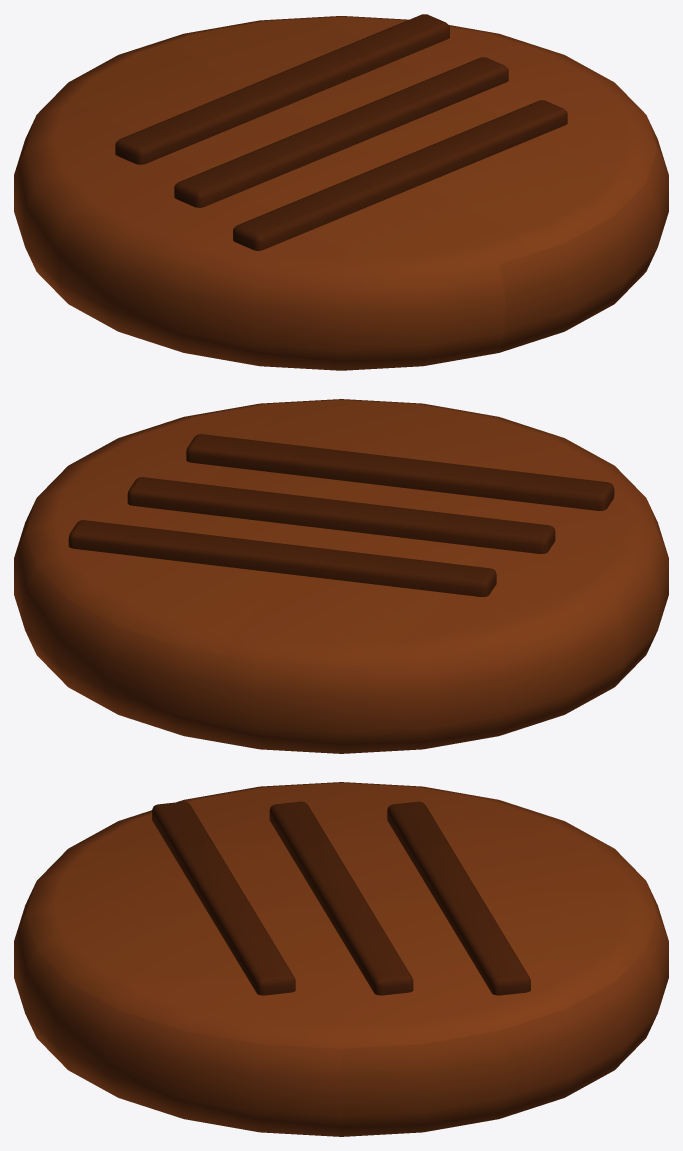
Rendered from patty.glb.
The picture shows the model from 3 angles, top to bottom: view 1: azimuth 30°, elevation 25°; view 2: azimuth 150°, elevation 25°; view 3: azimuth 270°, elevation 25°; orthographic projection.
Visible parts, largest first — view 1: PattyCookedBody, GrillChar_0.0, GrillChar_0.07, GrillChar_-0.07; view 2: PattyCookedBody, GrillChar_-0.07, GrillChar_0.0, GrillChar_0.07; view 3: PattyCookedBody, GrillChar_0.0, GrillChar_0.07, GrillChar_-0.07.
Boxes of the visible parts, x1,y1,x2,y2 form: PattyCookedBody: (14, 16, 668, 370); GrillChar_0.0: (174, 57, 508, 207); GrillChar_0.07: (115, 14, 449, 164); GrillChar_-0.07: (233, 100, 567, 250); PattyCookedBody: (14, 399, 668, 753); GrillChar_-0.07: (186, 434, 614, 510); GrillChar_0.0: (127, 477, 555, 553); GrillChar_0.07: (68, 520, 496, 596); PattyCookedBody: (14, 782, 668, 1136); GrillChar_0.0: (269, 801, 413, 995); GrillChar_0.07: (387, 801, 530, 995); GrillChar_-0.07: (152, 801, 295, 995).
Size of the model in its own units: 0.39 by 0.0815 by 0.39.
Materials: 2 (2 with a texture image).
